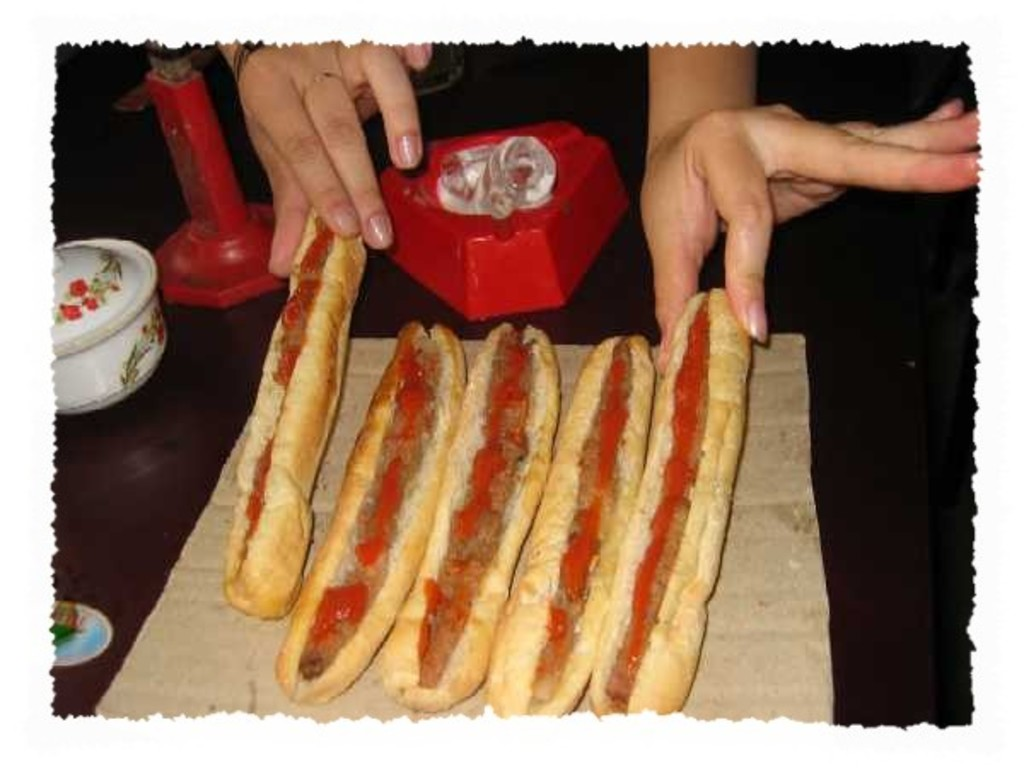hot_dog: (589, 280, 754, 741), (278, 323, 464, 700), (384, 326, 563, 713), (486, 336, 659, 715), (224, 203, 369, 616)
